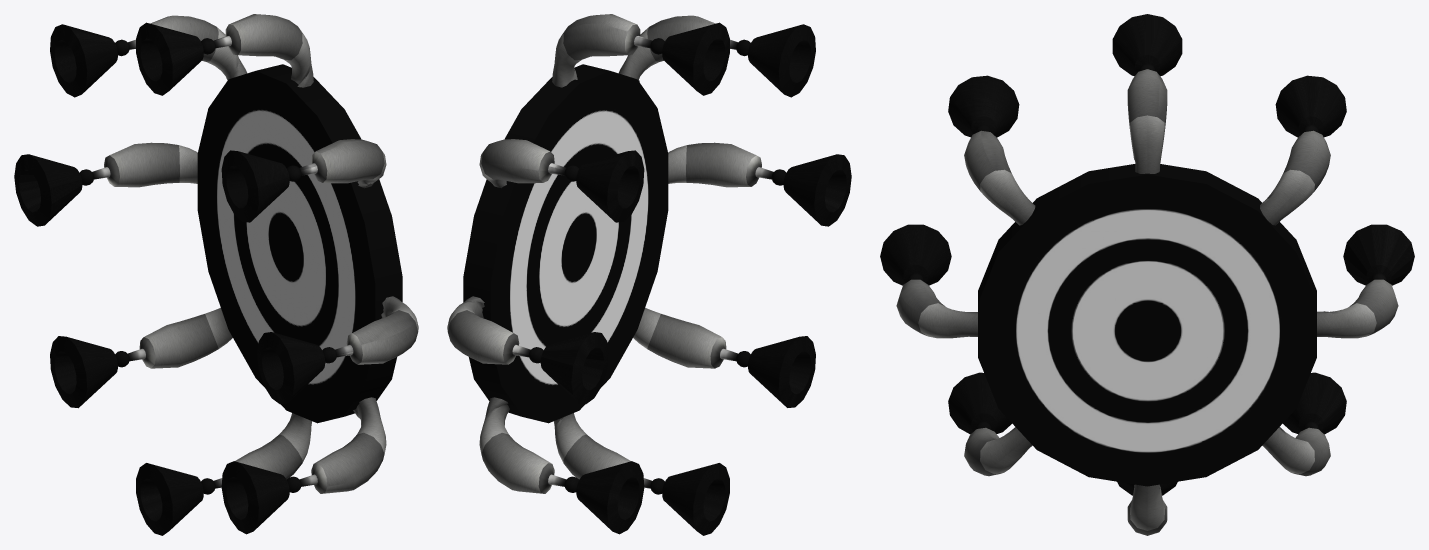
File: Boss Fase 2.obj
The picture shows the model from 3 angles, left to right: view 1: azimuth 30°, elevation 25°; view 2: azimuth 150°, elevation 25°; view 3: azimuth 270°, elevation 25°; orthographic projection. The views are drawn at different scales.
Visible parts, largest first — view 1: Cylinder001, Cannon_00, Cannon_05, Cannon_01, Cannon_04, Cannon_07, Cannon_03, Cannon_06, Cannon_02; view 2: Cylinder001, Cannon_04, Cannon_03, Cannon_07, Cannon_00, Cannon_01, Cannon_05, Cannon_06, Cannon_02; view 3: Cylinder001, Cannon_02, Cannon_04, Cannon_00, Cannon_01, Cannon_03, Cannon_05, Cannon_07.
Part boxes in pixels (x1=…): Cylinder001: x1=92, y1=14, x2=418, y2=493; Cannon_00: x1=14, y1=154, x2=94, y2=226; Cannon_05: x1=221, y1=461, x2=301, y2=534; Cannon_01: x1=50, y1=24, x2=129, y2=97; Cannon_04: x1=257, y1=332, x2=336, y2=404; Cannon_07: x1=50, y1=336, x2=129, y2=408; Cannon_03: x1=221, y1=150, x2=301, y2=222; Cannon_06: x1=136, y1=463, x2=215, y2=535; Cannon_02: x1=136, y1=22, x2=215, y2=95; Cylinder001: x1=447, y1=14, x2=773, y2=493; Cannon_04: x1=771, y1=154, x2=851, y2=226; Cannon_03: x1=736, y1=24, x2=815, y2=97; Cannon_07: x1=564, y1=461, x2=644, y2=534; Cannon_00: x1=529, y1=332, x2=608, y2=404; Cannon_01: x1=564, y1=150, x2=644, y2=222; Cannon_05: x1=736, y1=336, x2=815, y2=407; Cannon_06: x1=650, y1=463, x2=729, y2=535; Cannon_02: x1=650, y1=22, x2=729, y2=95; Cylinder001: x1=896, y1=69, x2=1398, y2=535; Cannon_02: x1=1112, y1=14, x2=1182, y2=76; Cannon_04: x1=880, y1=224, x2=951, y2=285; Cannon_00: x1=1343, y1=224, x2=1414, y2=285; Cannon_01: x1=1275, y1=75, x2=1346, y2=137; Cannon_03: x1=948, y1=75, x2=1019, y2=137; Cannon_05: x1=948, y1=372, x2=1011, y2=434; Cannon_07: x1=1283, y1=372, x2=1346, y2=434.
Bounding box in the file's own units: 31.39 × 93.87 × 93.87.
